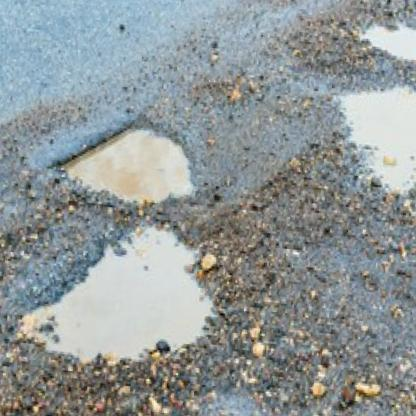pothole: (18, 213, 225, 374), (53, 110, 204, 211)
